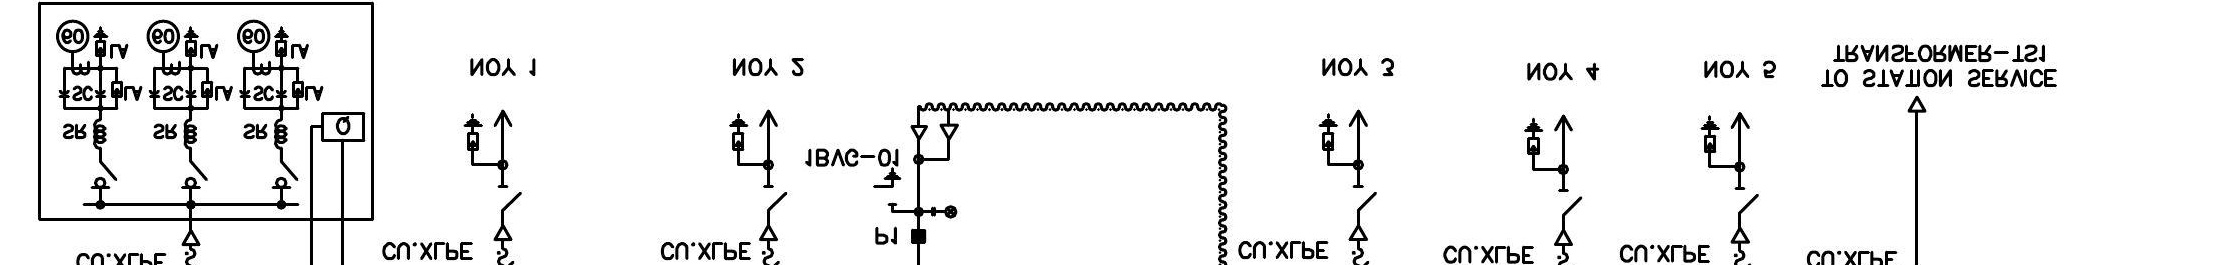22_cap_bank: (37, 1, 375, 222)
22_ds_la_out: (728, 109, 789, 211), (1523, 113, 1584, 215), (463, 109, 522, 211), (1319, 108, 1378, 210), (1699, 111, 1759, 213)
22_gs: (872, 166, 901, 207)
22_ll: (930, 204, 958, 220)
Q: (321, 111, 366, 142)
terminator_double: (910, 122, 960, 162)
terminator_single: (1553, 228, 1574, 247), (493, 224, 512, 242), (1907, 95, 1926, 113), (180, 230, 202, 247), (1729, 227, 1750, 244), (760, 225, 779, 242), (1349, 224, 1369, 241)
